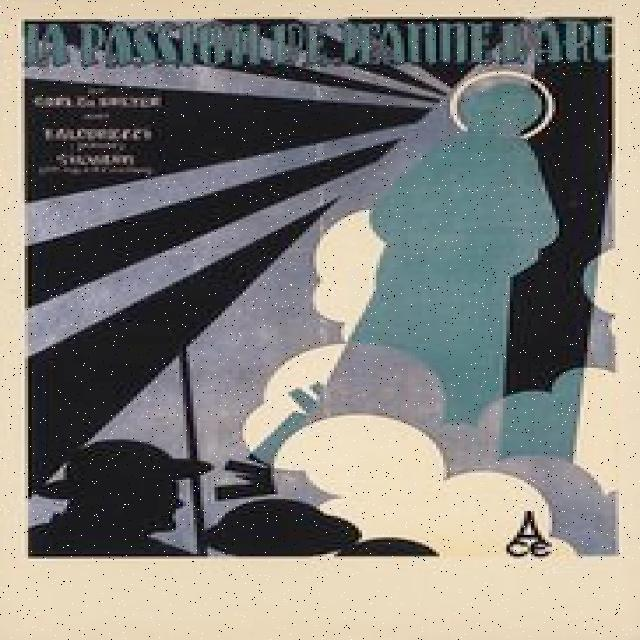movie-judul: (26, 19, 628, 72)
picture: (22, 71, 615, 560)
